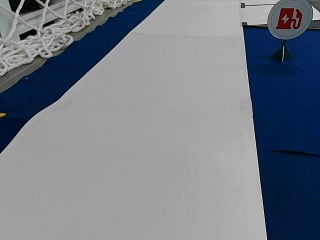battery: (266, 0, 312, 39)
